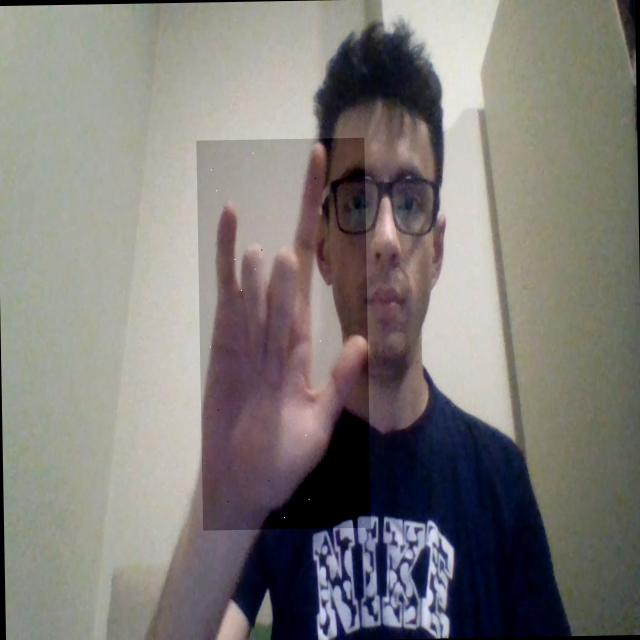iloveyou: (196, 137, 370, 530)
